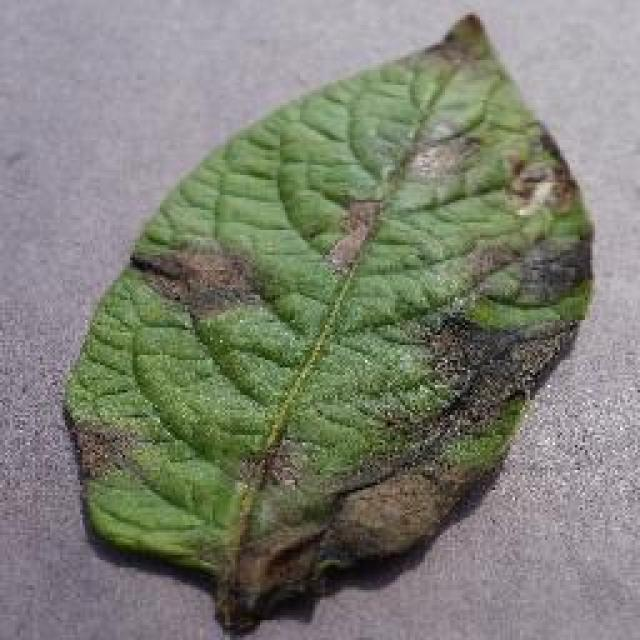late_blight: (58, 7, 600, 635)
